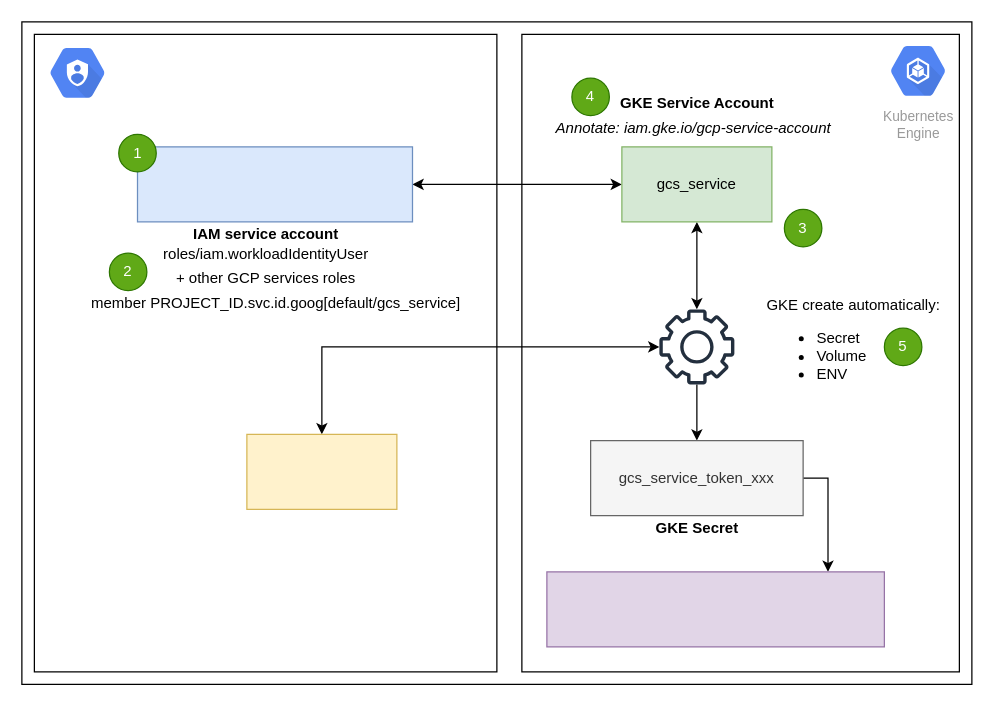
Some shapes in this 994 by 706 pixel diagram are drawn without their labels. Each missing label, with the box of its shape:
Cloud IAM: (36, 36, 118, 109)
gcs_service@PROJECT_ID.....com: (136, 146, 412, 222)
GOOGLE_APPLICATION_CREDENTIALS: (546, 571, 884, 647)
Service Account Token: (246, 433, 397, 509)
